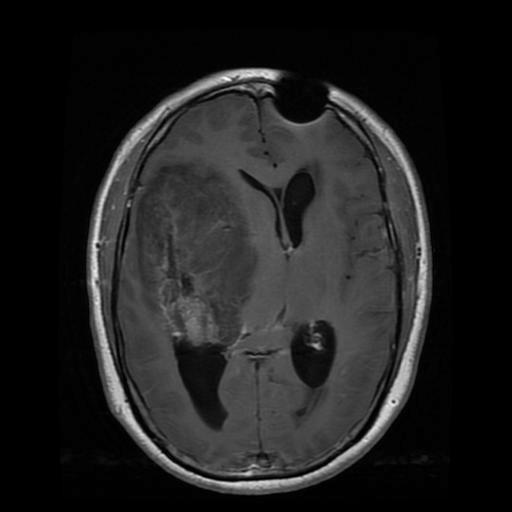Tumour-Glioma: (136, 179, 253, 356)
